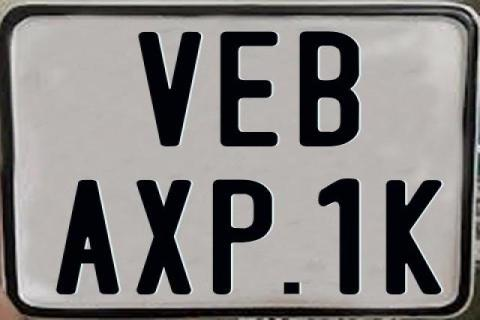0: (315, 178, 359, 298)
A: (54, 178, 122, 294)
B: (299, 30, 365, 146)
E: (220, 31, 279, 148)
K: (386, 179, 444, 297)
P: (212, 178, 276, 294)
V: (138, 32, 201, 146)
X: (136, 180, 194, 294)
